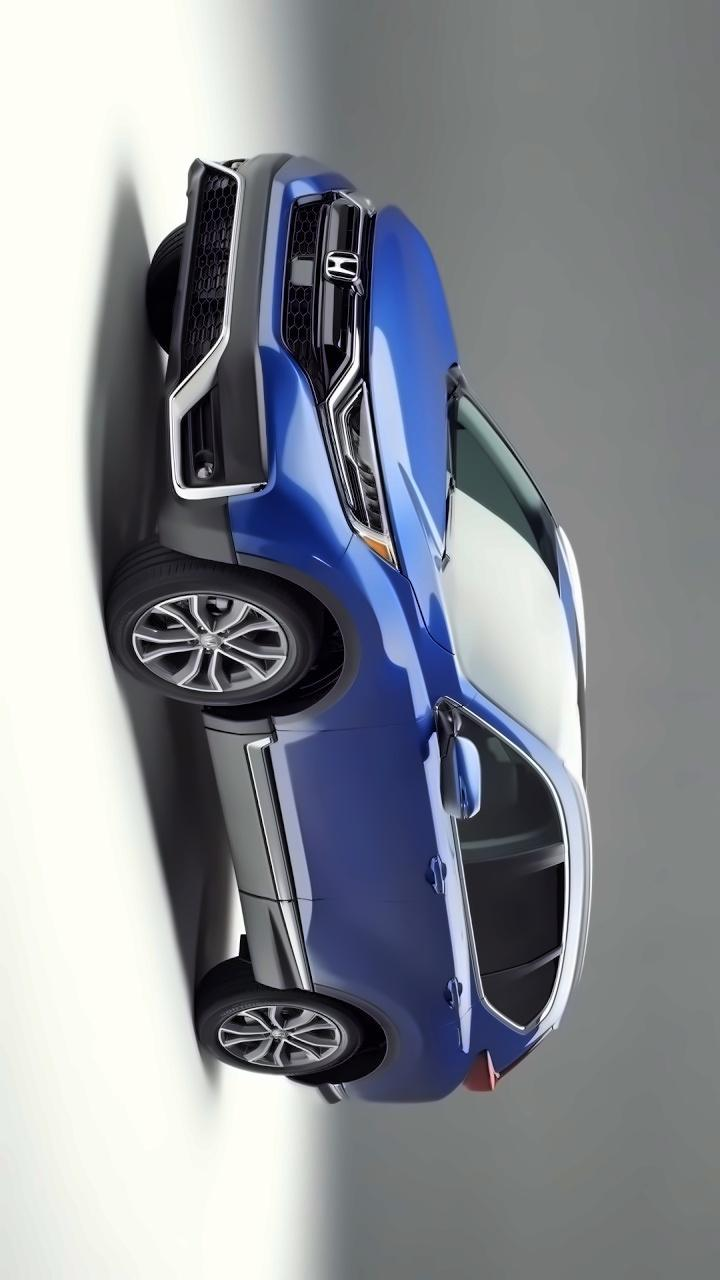Car hood: (364, 192, 465, 661)
Fender - -F-L-: (159, 541, 566, 760)
Fender - -R-L-: (302, 992, 571, 1125)
Front bumper: (150, 146, 299, 572)
Headlight - -L-: (326, 358, 410, 579)
Passenger-s door - -F-L-: (148, 688, 644, 899)
Passenger-s door - -R-L-: (230, 858, 612, 1016)
Rear light - -L-: (462, 1040, 511, 1107)
Side bumper - -L-: (186, 706, 335, 993)
Side mirror - -L-: (426, 676, 484, 831)
